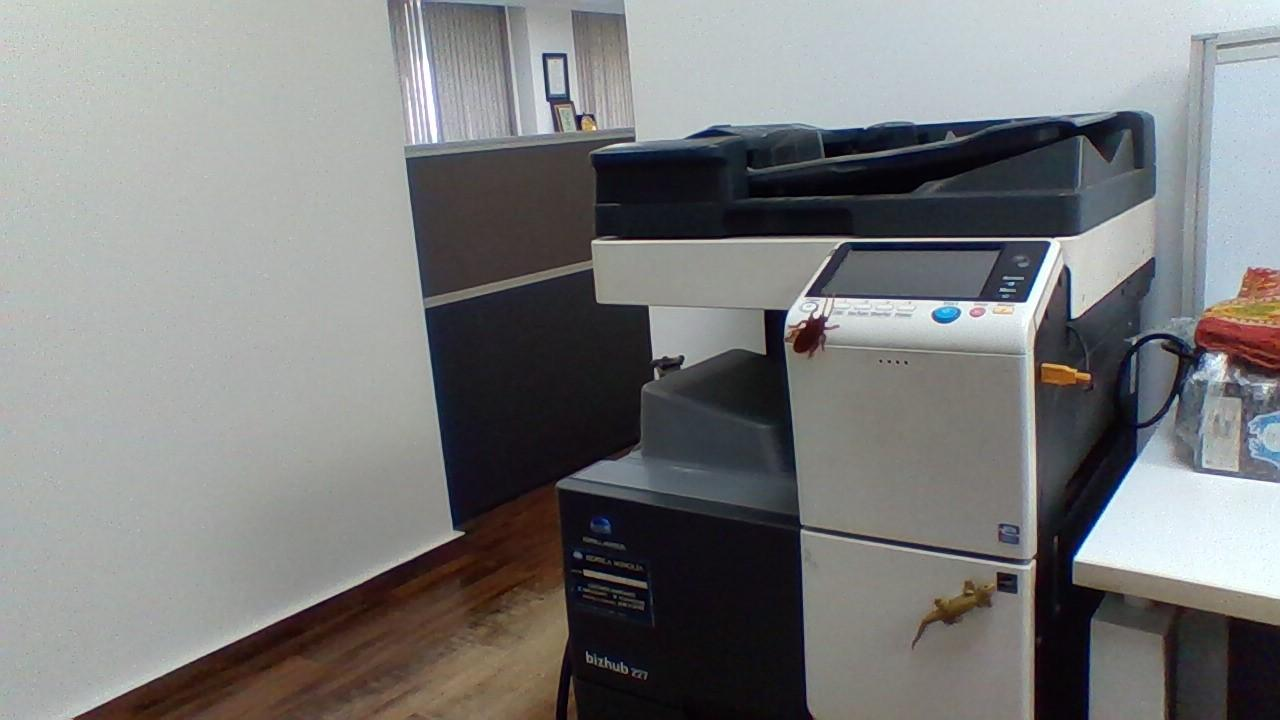cockroach: (785, 309, 840, 368)
lizard: (909, 563, 998, 661)
